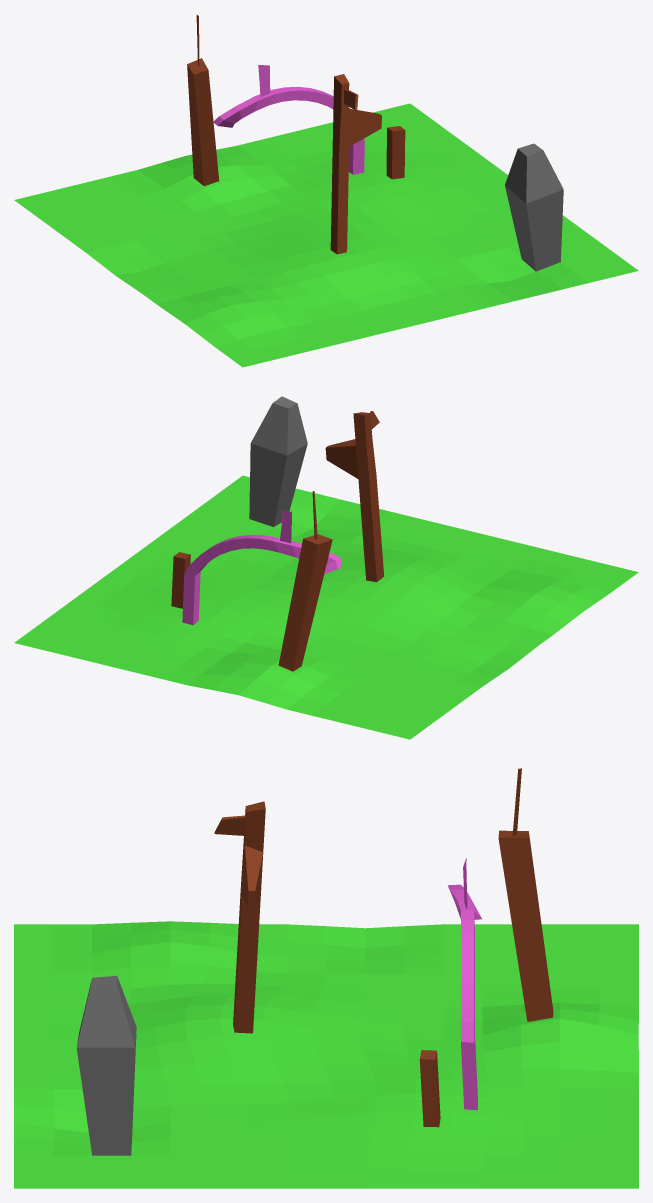
The model's file is MehmetsWorldTest.glb.
3 renders of one model, top to bottom at view 1: azimuth 30°, elevation 25°; view 2: azimuth 150°, elevation 25°; view 3: azimuth 270°, elevation 25°, orthographic. The views are drawn at different scales.
Parts seen in each view (by area): view 1: Plane; view 2: Plane; view 3: Plane.
Part boxes in pixels (x1,y1,x2,y2): Plane: (14, 14, 638, 367); Plane: (14, 396, 638, 739); Plane: (14, 768, 638, 1188).
Size of the model in its own units: 26.37 by 12.1 by 26.32.
